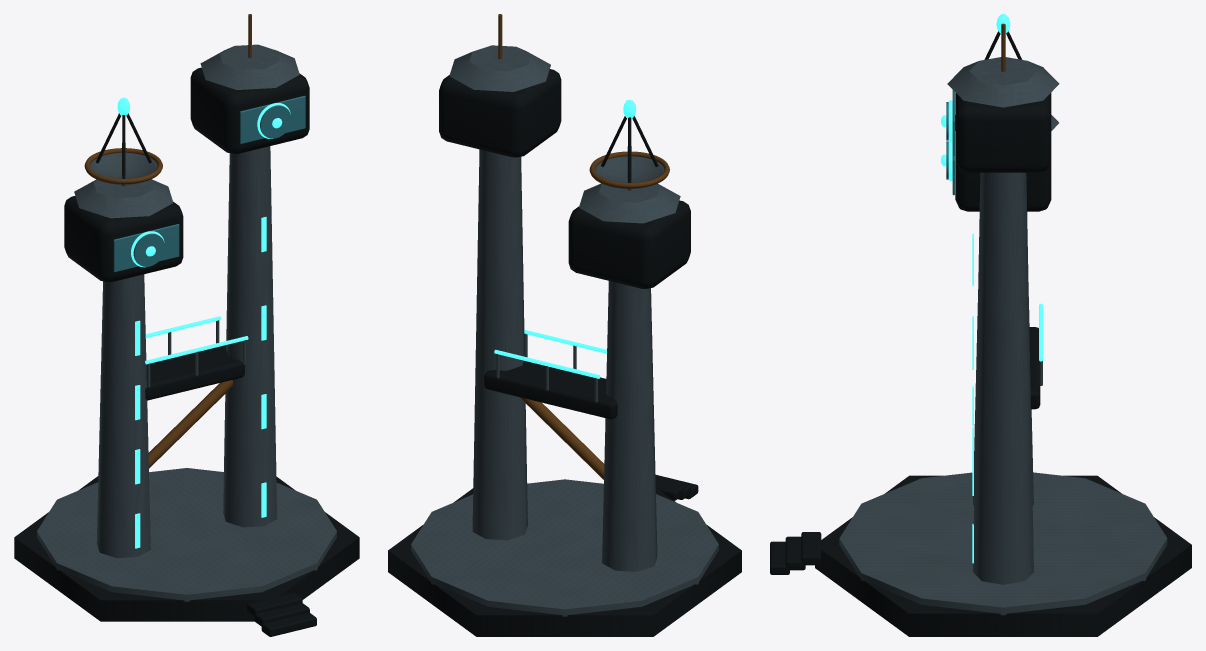
Rendered from 05_alien_watchtower_v3_twin.glb.
3 renders of one model, left to right at view 1: azimuth 30°, elevation 25°; view 2: azimuth 150°, elevation 25°; view 3: azimuth 270°, elevation 25°, orthographic. The views are drawn at different scales.
Visible parts, largest first — view 1: 05_alien_watchtower_v3_twin | Tower | brushed titanium, 05_alien_watchtower_v3_twin | Tower | graphite armor, 05_alien_watchtower_v3_twin | Tower | teal sensor glass, 05_alien_watchtower_v3_twin | Tower | cyan luminescent ceram, 05_alien_watchtower_v3_twin | Tower | oxidized bronze; view 2: 05_alien_watchtower_v3_twin | Tower | brushed titanium, 05_alien_watchtower_v3_twin | Tower | graphite armor, 05_alien_watchtower_v3_twin | Tower | oxidized bronze, 05_alien_watchtower_v3_twin | Tower | cyan luminescent ceram; view 3: 05_alien_watchtower_v3_twin | Tower | brushed titanium, 05_alien_watchtower_v3_twin | Tower | graphite armor, 05_alien_watchtower_v3_twin | Tower | cyan luminescent ceram.
Boxes of the visible parts, box(x1,y1,x2,y2) form: 05_alien_watchtower_v3_twin | Tower | brushed titanium: box(37, 44, 336, 601); 05_alien_watchtower_v3_twin | Tower | graphite armor: box(14, 67, 359, 636); 05_alien_watchtower_v3_twin | Tower | teal sensor glass: box(113, 95, 305, 272); 05_alien_watchtower_v3_twin | Tower | cyan luminescent ceram: box(117, 97, 290, 548); 05_alien_watchtower_v3_twin | Tower | oxidized bronze: box(84, 14, 251, 468); 05_alien_watchtower_v3_twin | Tower | brushed titanium: box(411, 45, 718, 616); 05_alien_watchtower_v3_twin | Tower | graphite armor: box(388, 69, 741, 636); 05_alien_watchtower_v3_twin | Tower | oxidized bronze: box(498, 14, 669, 479); 05_alien_watchtower_v3_twin | Tower | cyan luminescent ceram: box(494, 99, 636, 378); 05_alien_watchtower_v3_twin | Tower | brushed titanium: box(839, 57, 1167, 615); 05_alien_watchtower_v3_twin | Tower | graphite armor: box(770, 31, 1191, 636); 05_alien_watchtower_v3_twin | Tower | cyan luminescent ceram: box(941, 14, 1043, 563).
Bounding box in the file's own units: 4.61 × 8.95 × 5.93.
Materials: 5 (3 with a texture image).
